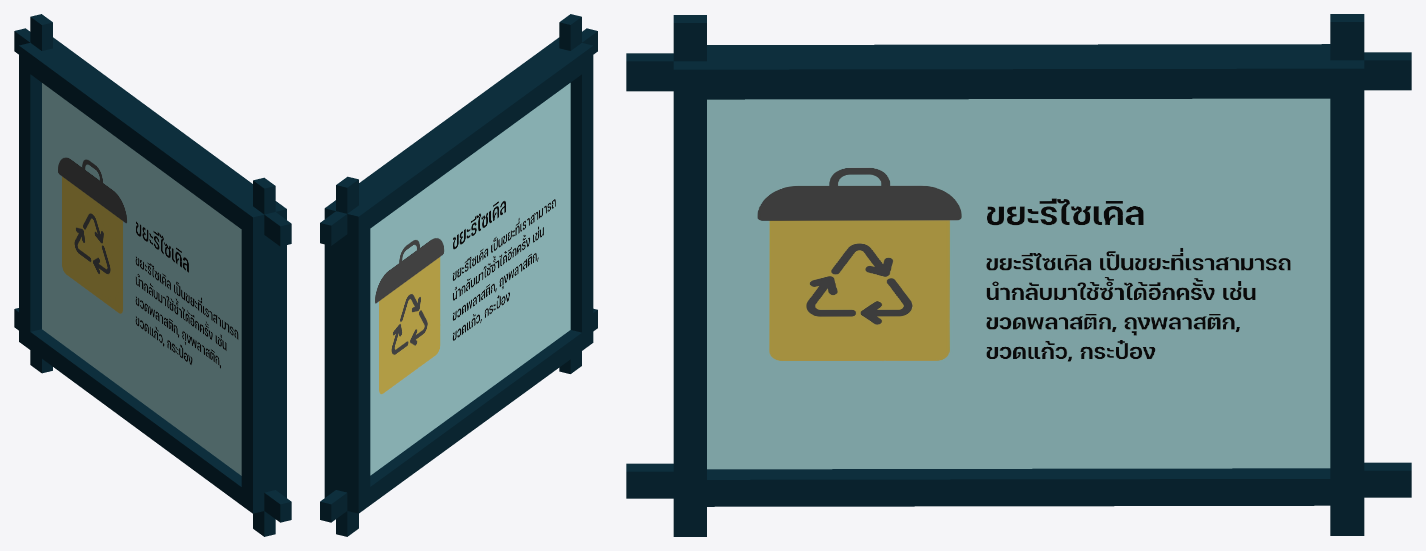
File: 01_Content_Yellow.fbx
3 renders of one model, left to right at view 1: azimuth 30°, elevation 25°; view 2: azimuth 150°, elevation 25°; view 3: azimuth 270°, elevation 25°, orthographic. The views are drawn at different scales.
Visible parts, largest first — view 1: sign_info2; view 2: sign_info2; view 3: sign_info2.
Boxes of the visible parts, x1,y1,x2,y2 form: sign_info2: (14, 14, 291, 536); sign_info2: (320, 14, 597, 536); sign_info2: (626, 14, 1411, 536).
Bounding box in the file's own units: 0.7015 × 6.86 × 9.49.
